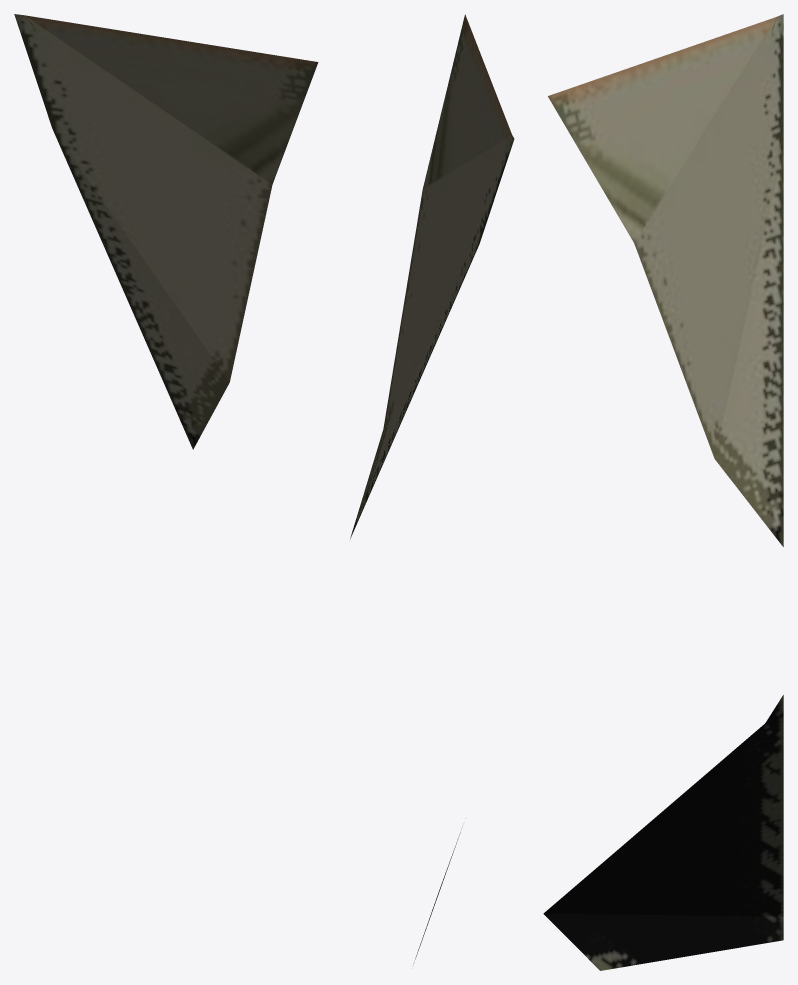
3 renders of one model, left to right at view 1: azimuth 30°, elevation 25°; view 2: azimuth 150°, elevation 25°; view 3: azimuth 270°, elevation 25°, orthographic. The views are drawn at different scales.
Size of the model in its own units: 1.19 by 5.9 by 1.47.
1 material, 1 textured.
